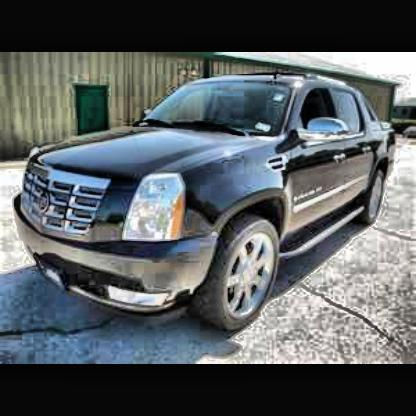Cadillac Escalade EXT Crew Cab 2007: (14, 68, 403, 330)
